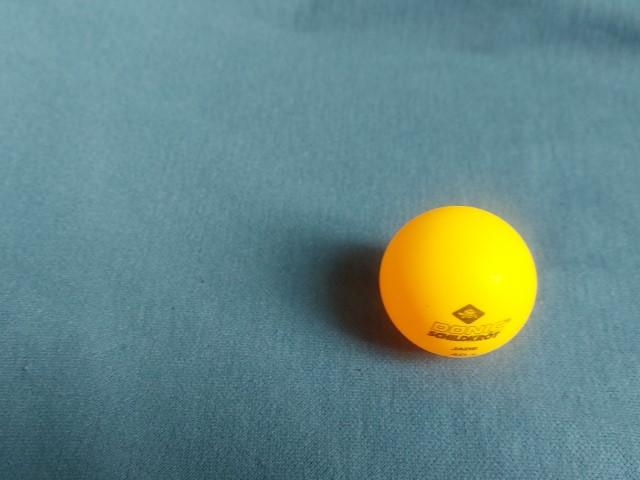oball: (374, 196, 543, 365)
